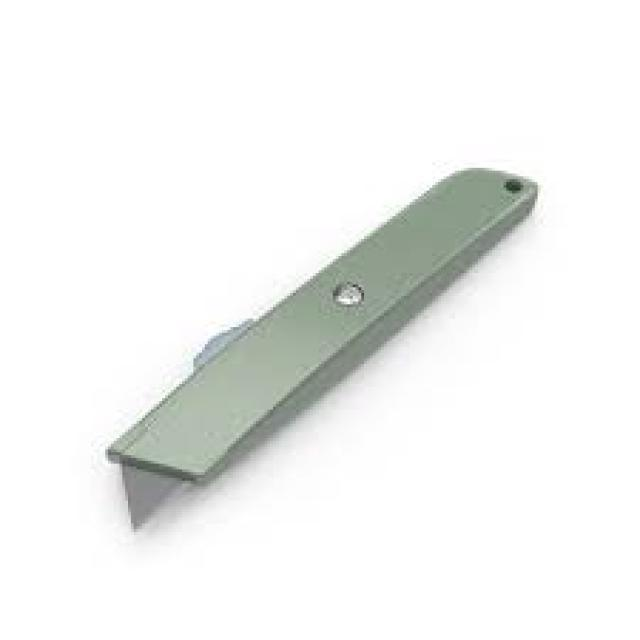cutter: (107, 157, 544, 538)
